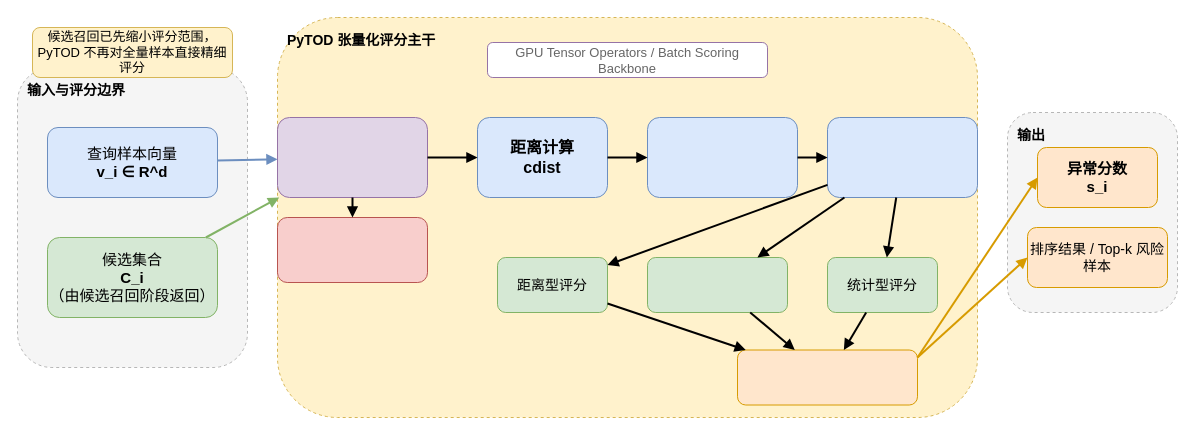
Image size: 1195x435. Some labels were removed from this diagram. Each missing label, with the box of its shape:
候选张量组织 Query–Candidate Tensorization: (276, 116, 428, 198)
局部密度型评分: (646, 256, 788, 312)
局部排序 / 筛选 topk / local ranking: (646, 116, 798, 198)
局部聚合统计 distance / density / feature statistics: (826, 116, 978, 198)
批量输入对齐 shape / dtype / index mapping: (276, 216, 428, 282)
统一评分接口 score normalization / unified output: (736, 349, 918, 405)
